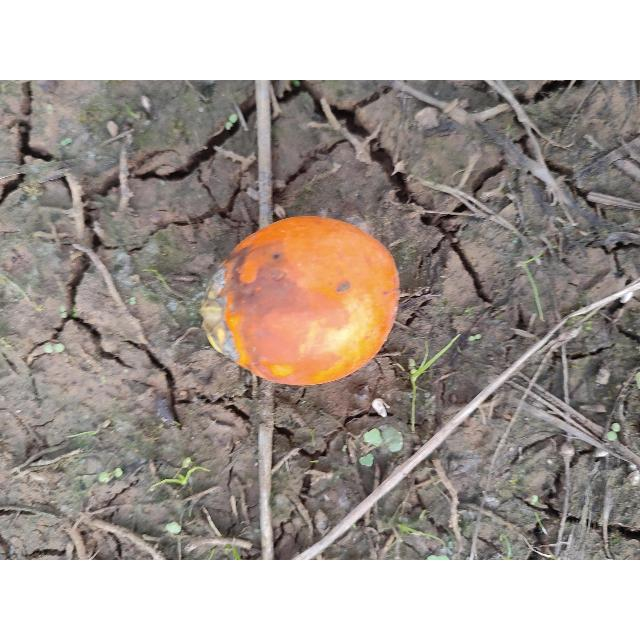good: (201, 216, 400, 388)
